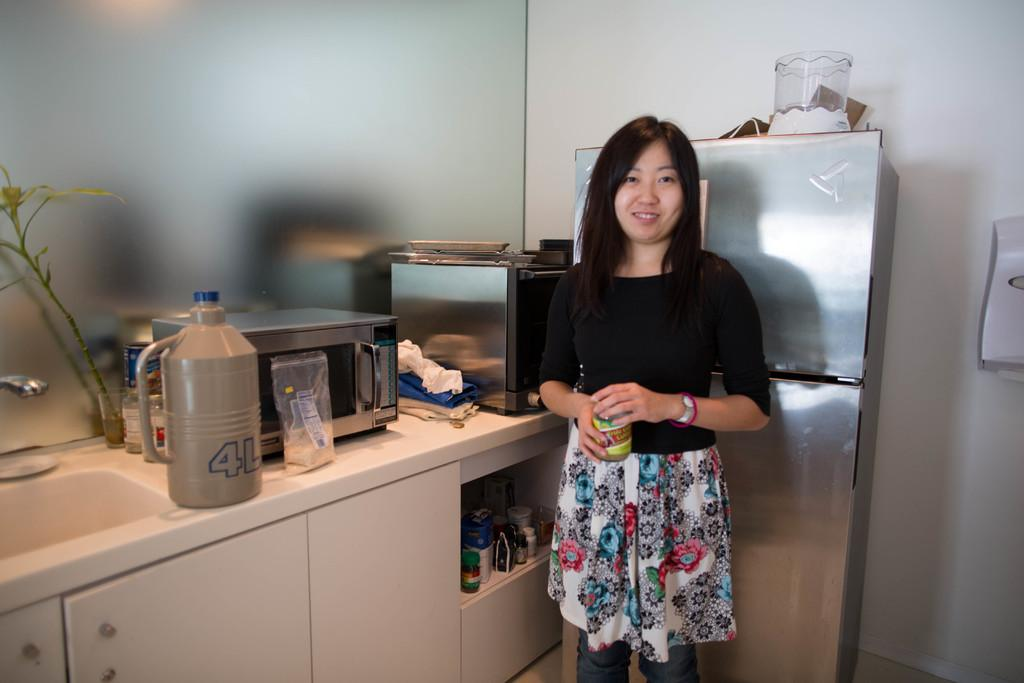cabinet_door: (314, 519, 464, 681), (76, 586, 302, 683)
handle: (15, 636, 43, 666), (92, 618, 120, 644)
